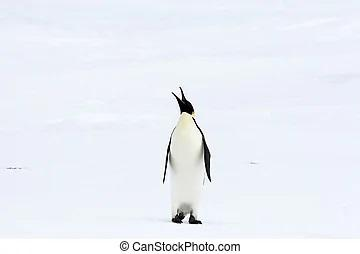king: (147, 78, 235, 239)
